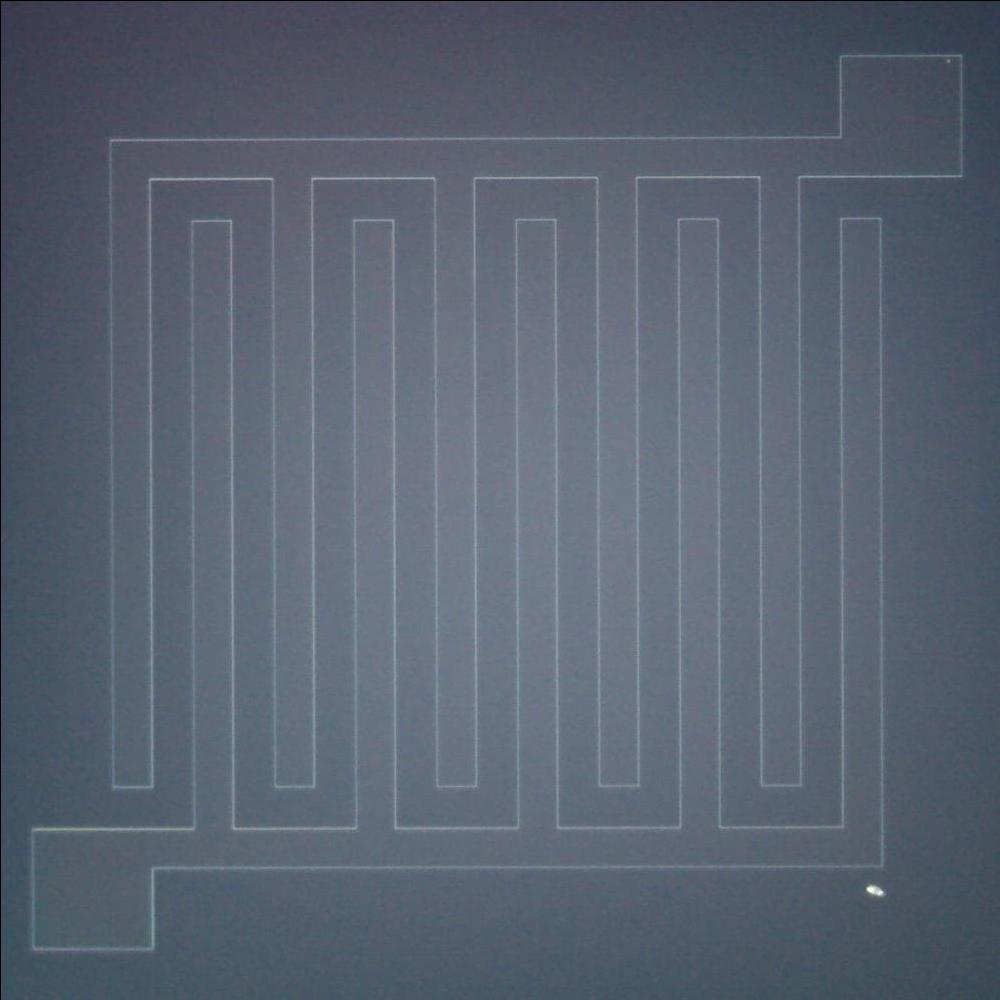spot: (862, 876, 888, 902)
